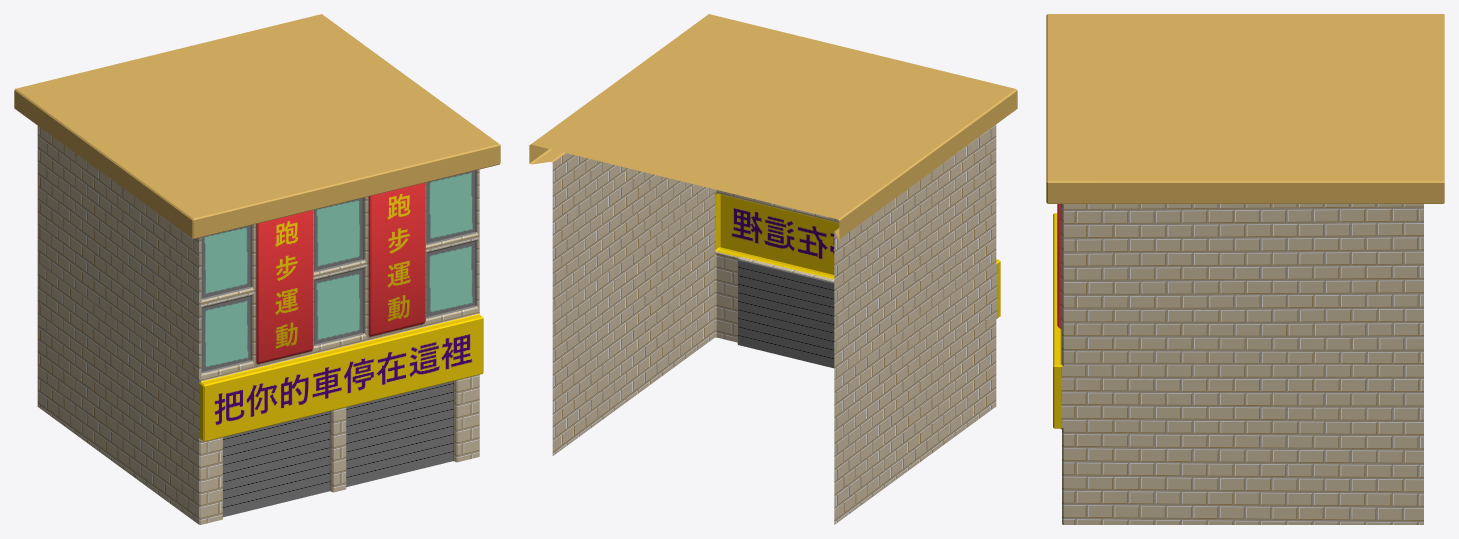
The model's file is Building1.fbx.
3 renders of one model, left to right at view 1: azimuth 30°, elevation 25°; view 2: azimuth 150°, elevation 25°; view 3: azimuth 270°, elevation 25°, orthographic. The views are drawn at different scales.
Parts seen in each view (by area): view 1: Building1; view 2: Building1; view 3: Building1.
Part boxes in pixels (left/top/right/bottom): Building1: left=14, top=14, right=500, bottom=524; Building1: left=529, top=14, right=1017, bottom=524; Building1: left=1046, top=14, right=1444, bottom=524.
Size of the model in its own units: 1000 by 973 by 1000.
Materials: 1 (1 with a texture image).
